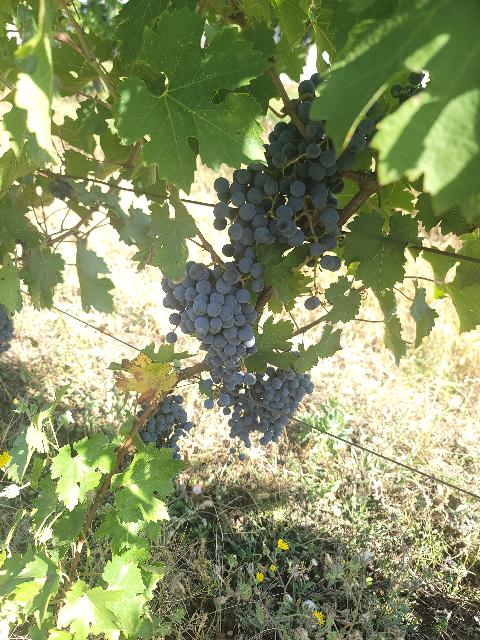grapes: (228, 141, 344, 278), (162, 261, 258, 369), (251, 366, 314, 444), (140, 395, 188, 454)
